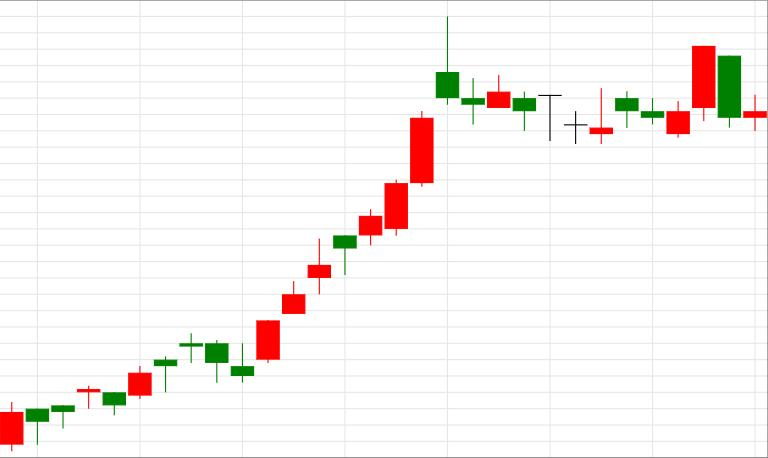shooting_star_fall: (257, 17, 459, 363)
